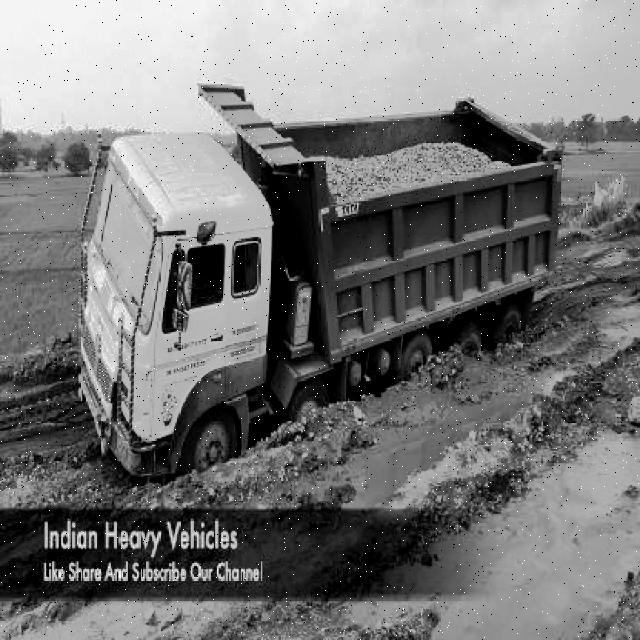HCV: (71, 100, 568, 482)
